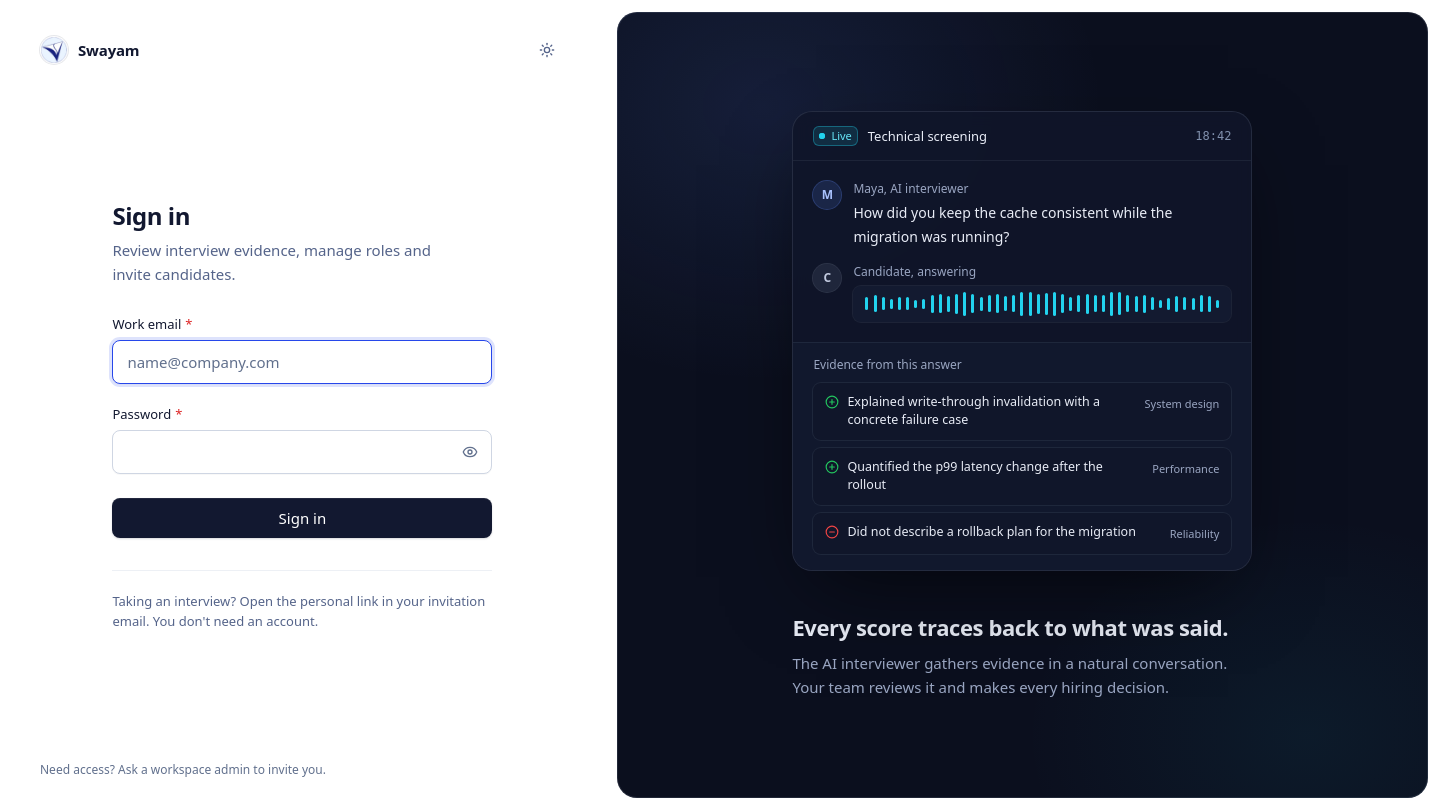
Test: LoginPage › shows invalid-credential errors and clears the password
Type "priya@acme.test" into the field labelled "Work email *" at (302, 362), box left=112, top=340, right=492, bottom=384
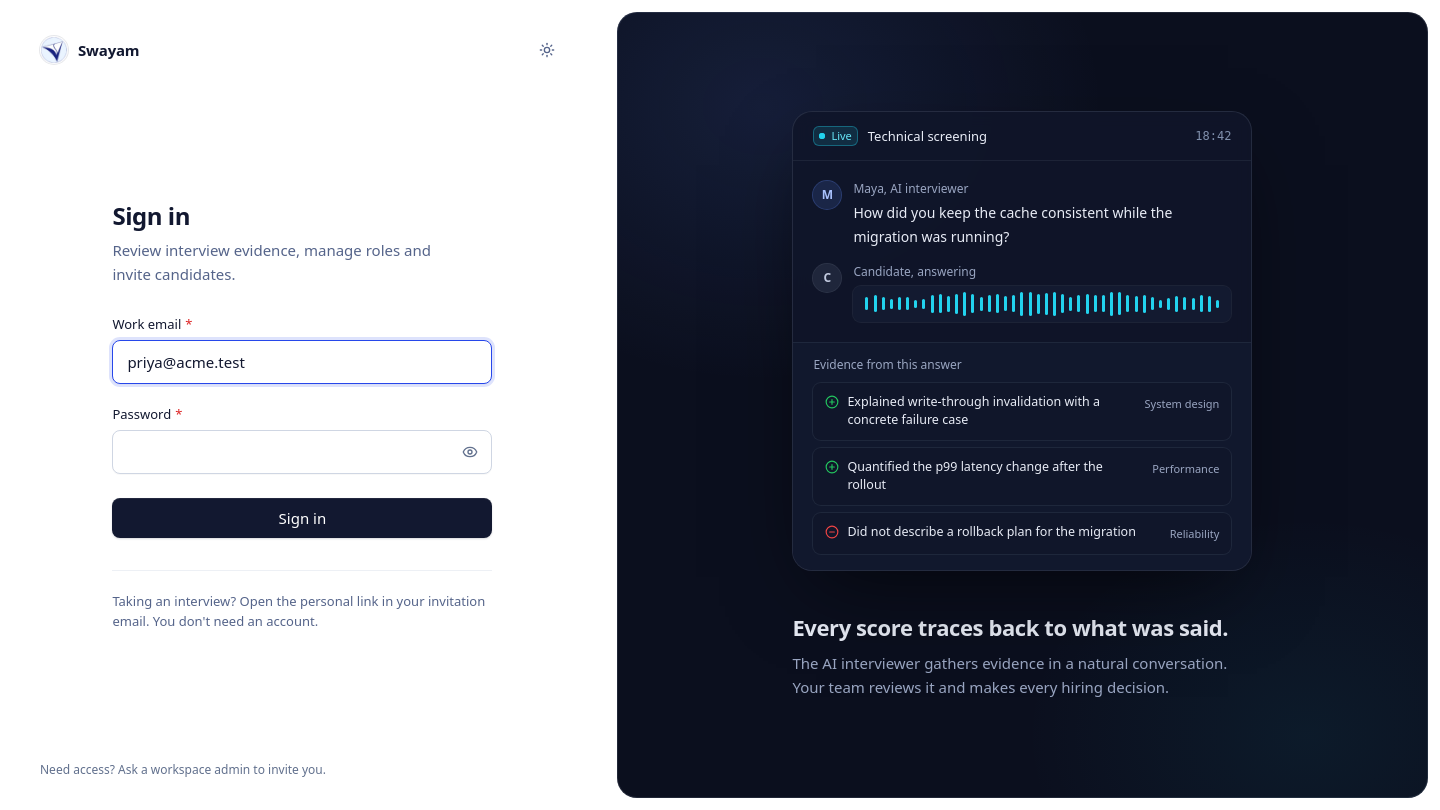
Type "wrong" into the password field labelled "Password *" at (302, 452), box left=112, top=430, right=492, bottom=474
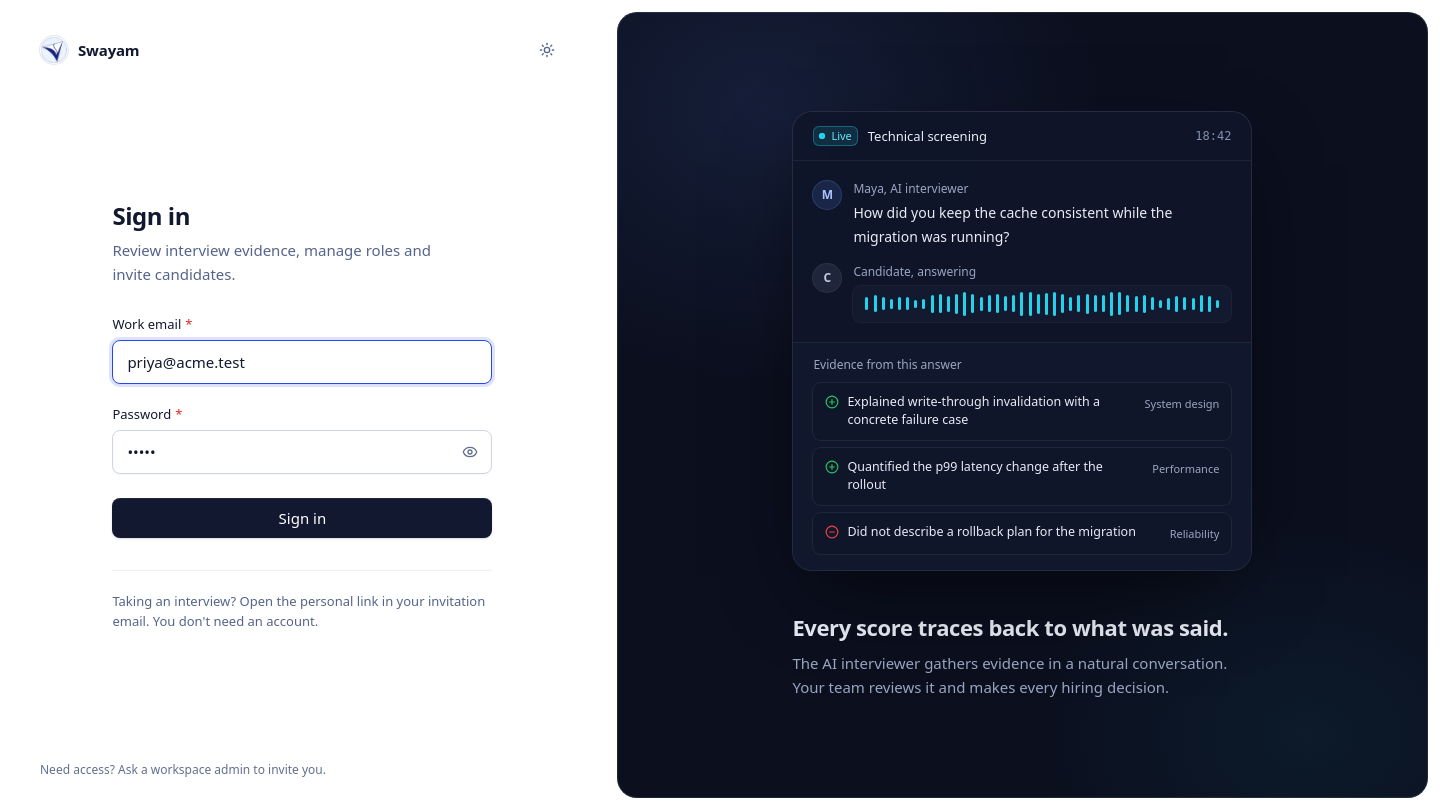
Click the button "Sign in" at (302, 518), box left=112, top=498, right=492, bottom=538
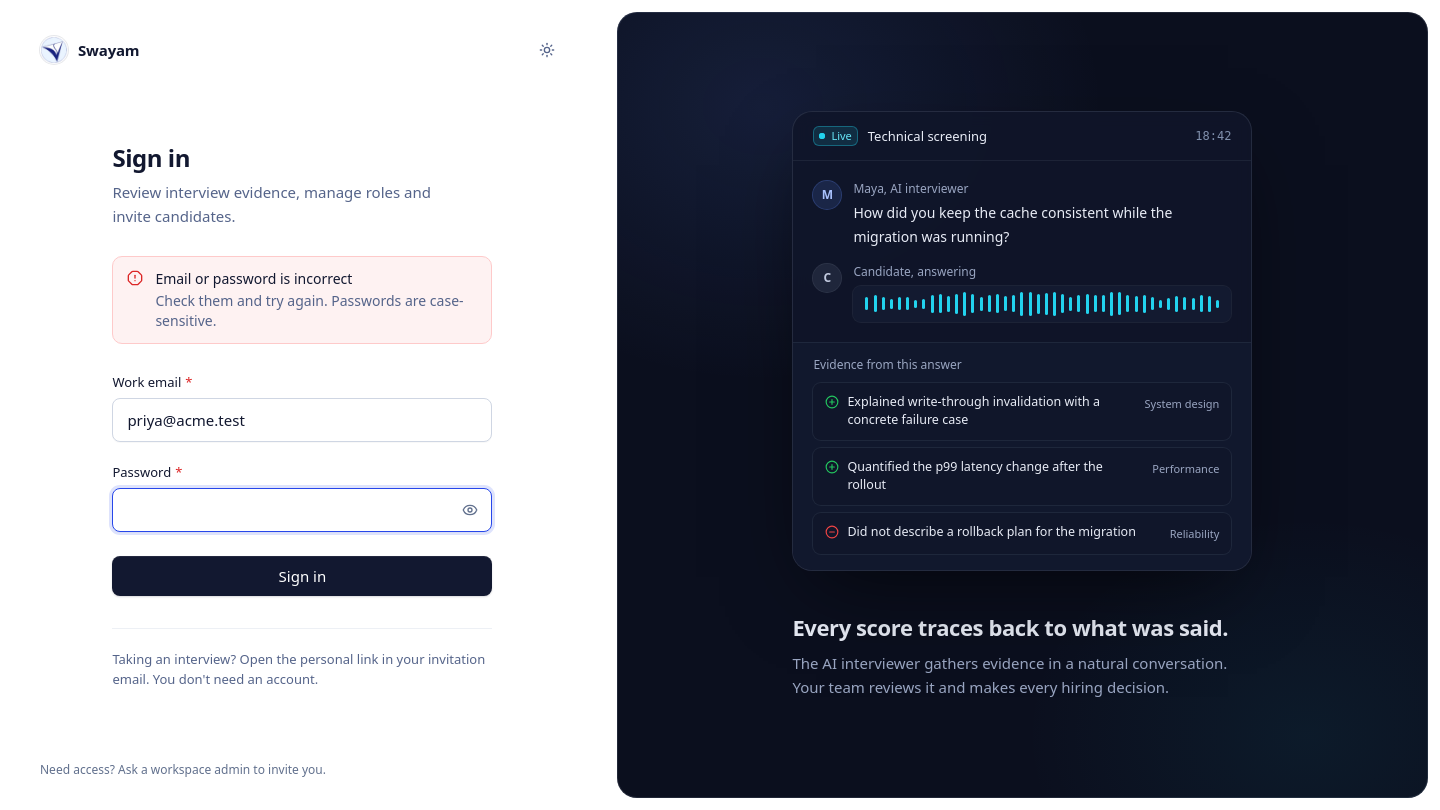
Check: the text "Email or password is incorrect" is shown, box left=155, top=268, right=352, bottom=288
Check: the password field labelled "Password *" is empty, box left=112, top=488, right=492, bottom=532
